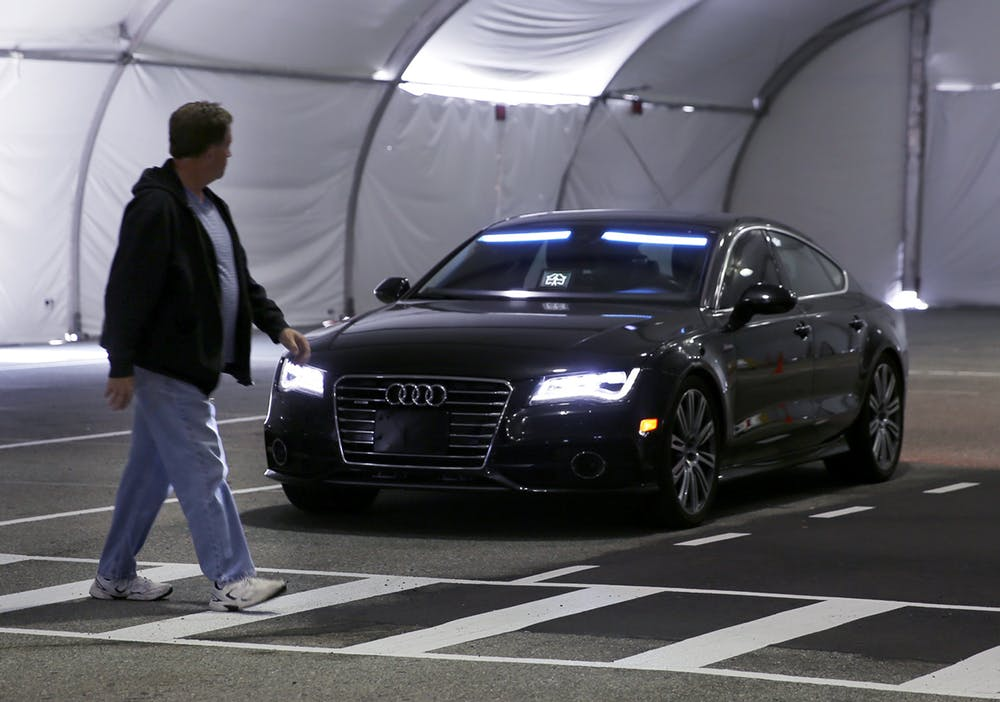person: (93, 87, 618, 298)
